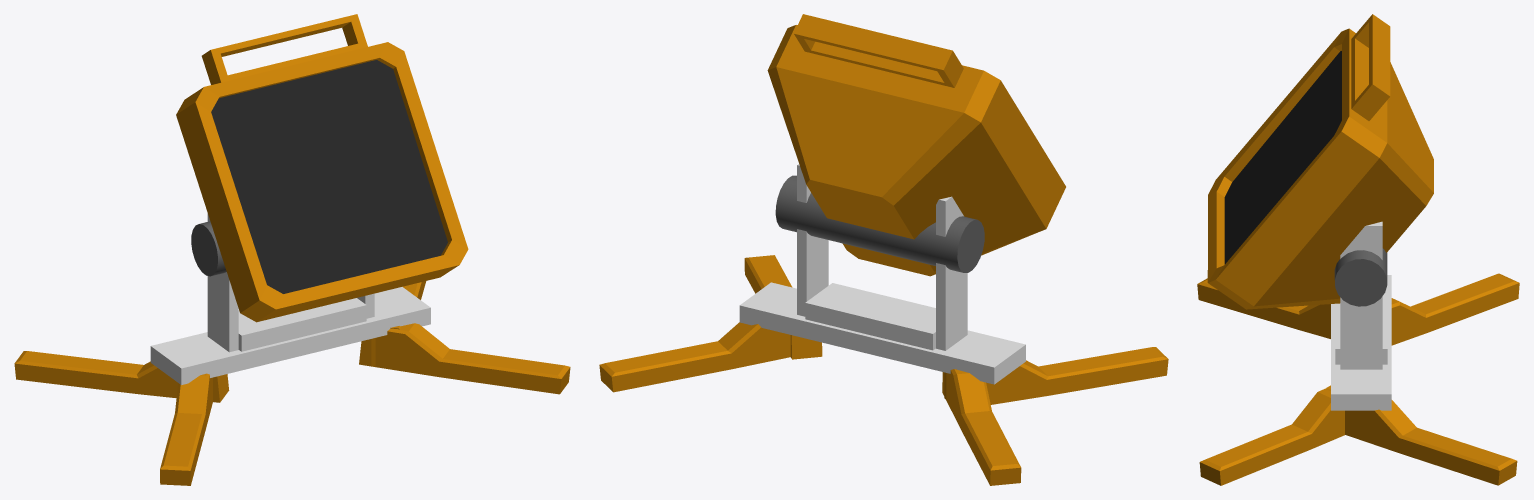
Rendered from S_MiniProjo.fbx.
3 views of the same model, side by side, from view 1: azimuth 30°, elevation 25°; view 2: azimuth 150°, elevation 25°; view 3: azimuth 270°, elevation 25° (orthographic). The views are drawn at different scales.
Parts seen in each view (by area): view 1: MINIPROJO; view 2: MINIPROJO; view 3: MINIPROJO.
Boxes of the visible parts, x1,y1,x2,y2 form: MINIPROJO: [14, 14, 570, 485]; MINIPROJO: [599, 14, 1168, 485]; MINIPROJO: [1197, 14, 1519, 485].
Size of what is drawn, in the model's own units: 80.43 by 64.07 by 55.42.
